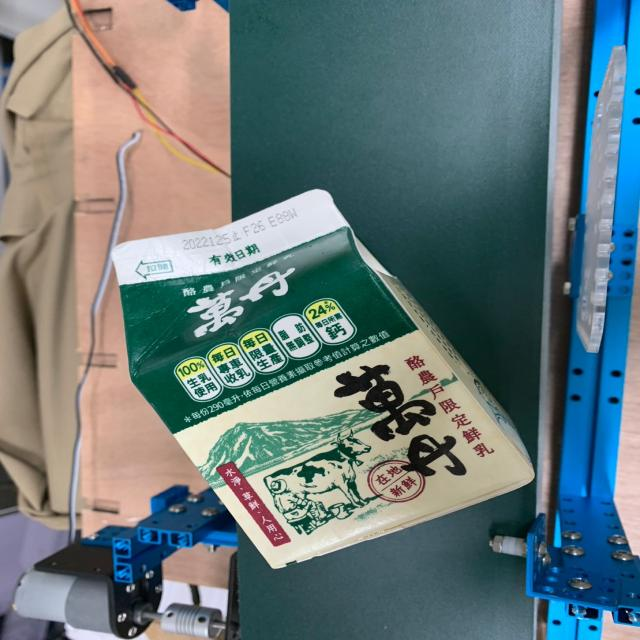non_white_jug: (99, 179, 563, 588)
